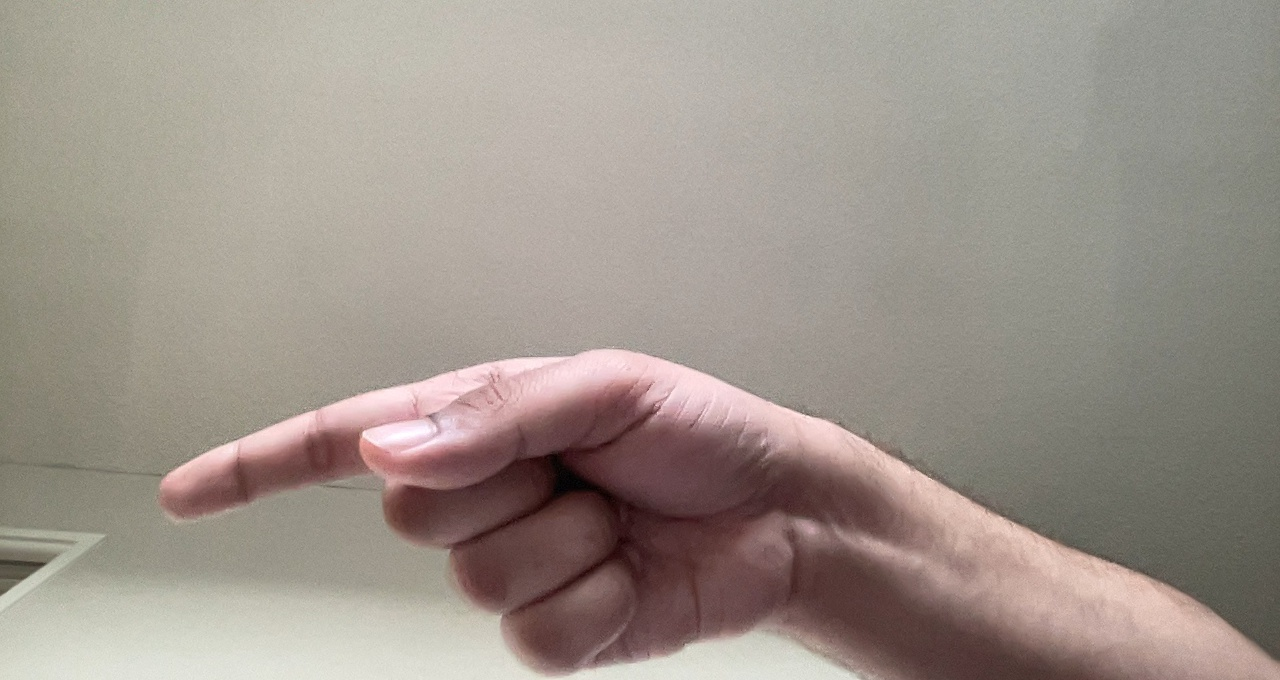fingerright: (148, 339, 804, 676)
